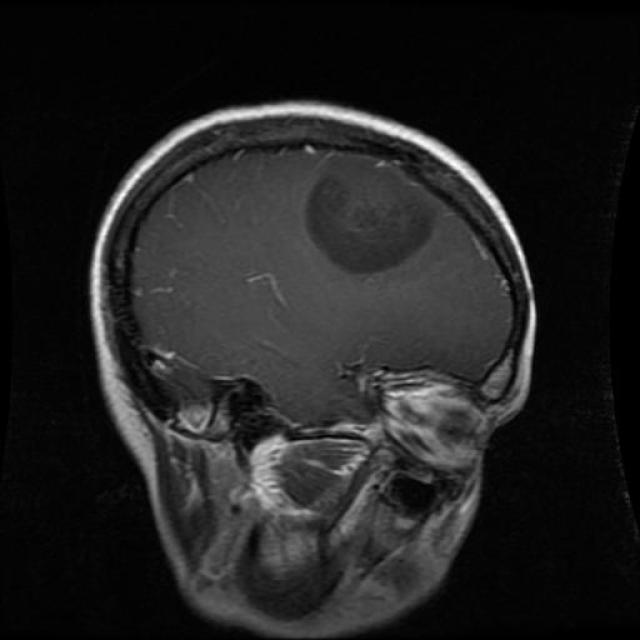glioma: (305, 142, 440, 272)
